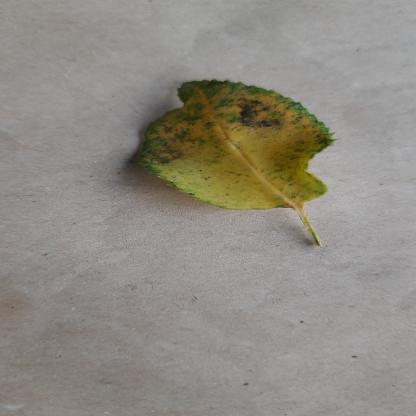black-spot: (124, 76, 340, 212)
